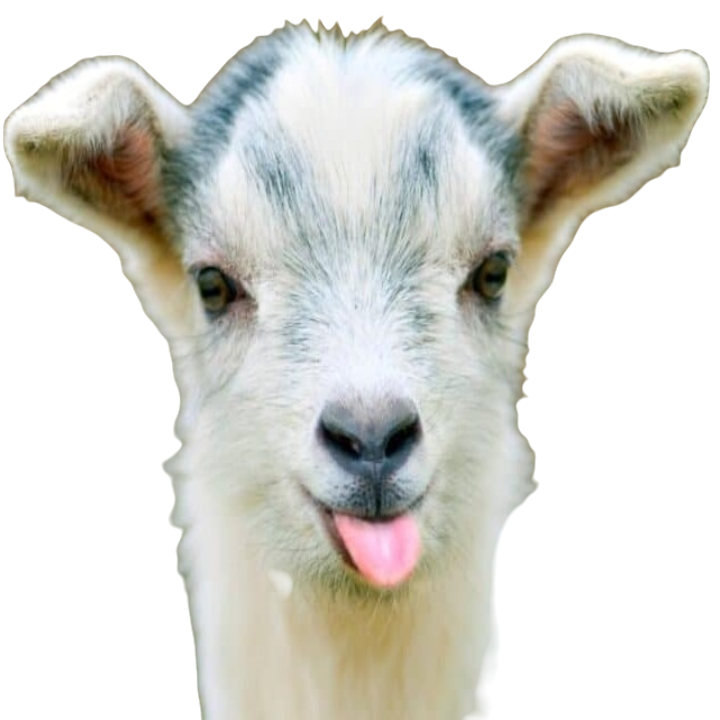Goat: (5, 7, 719, 719)
